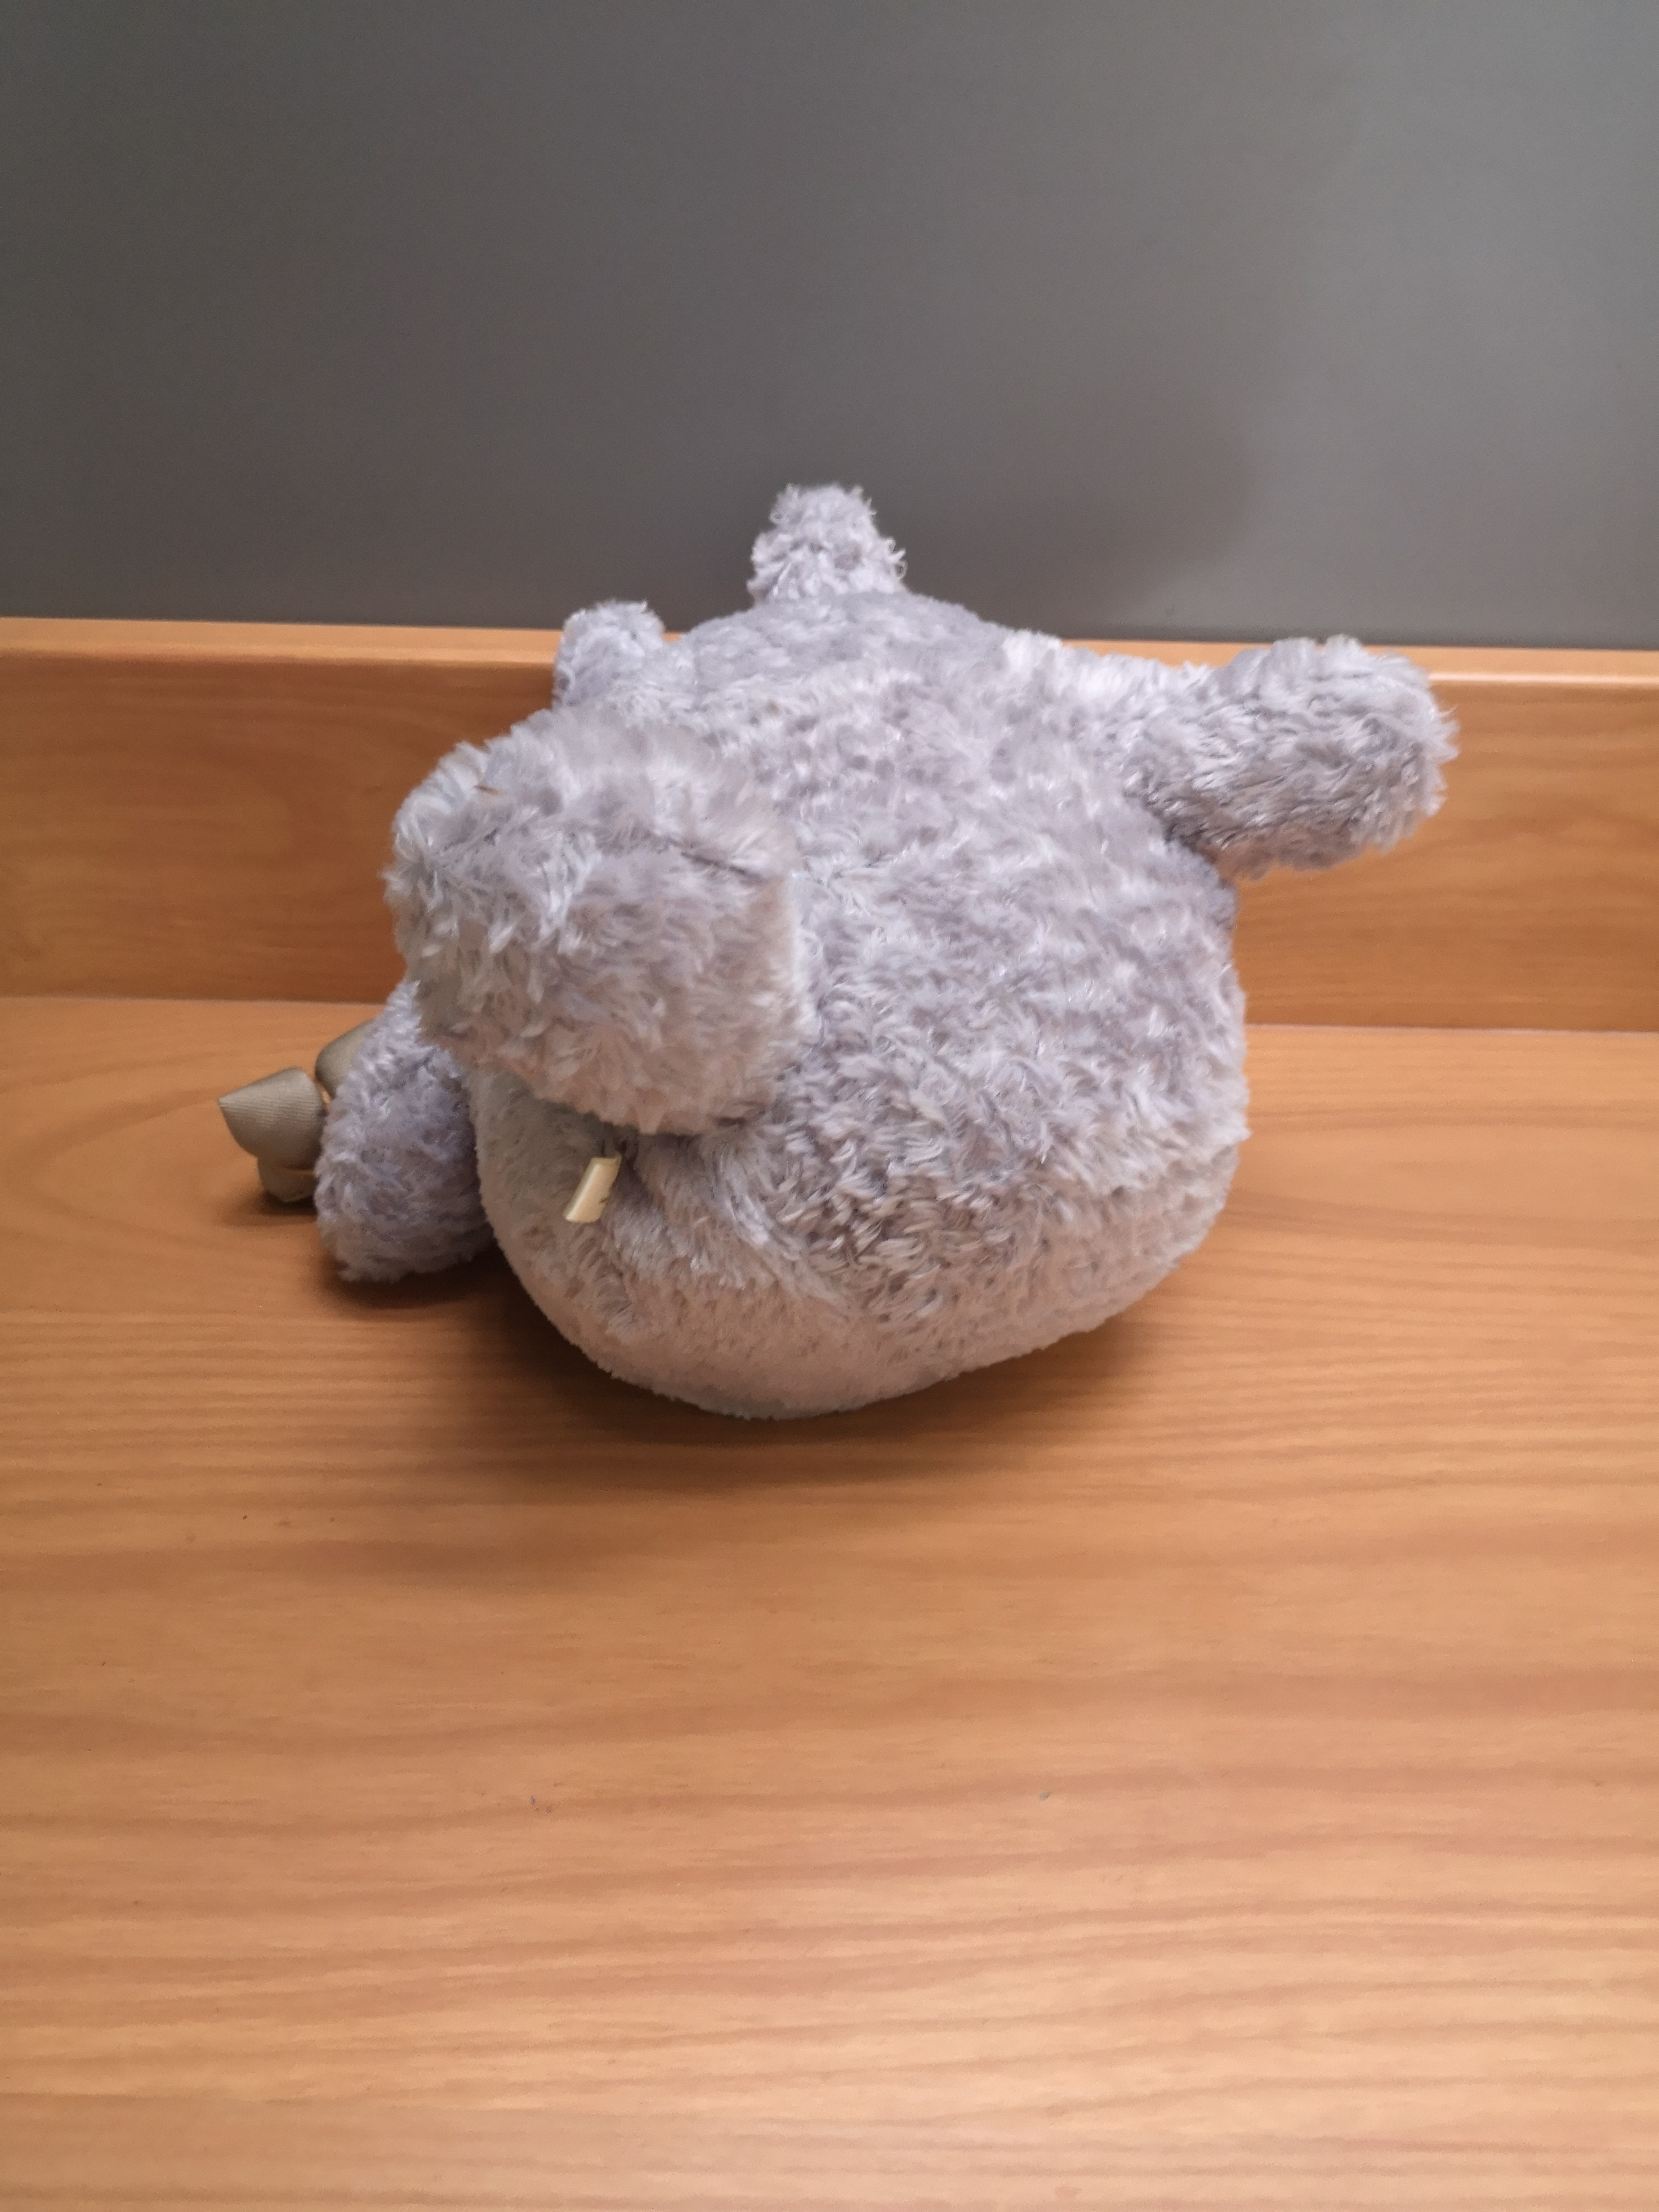totoro: (214, 467, 1471, 1428)
